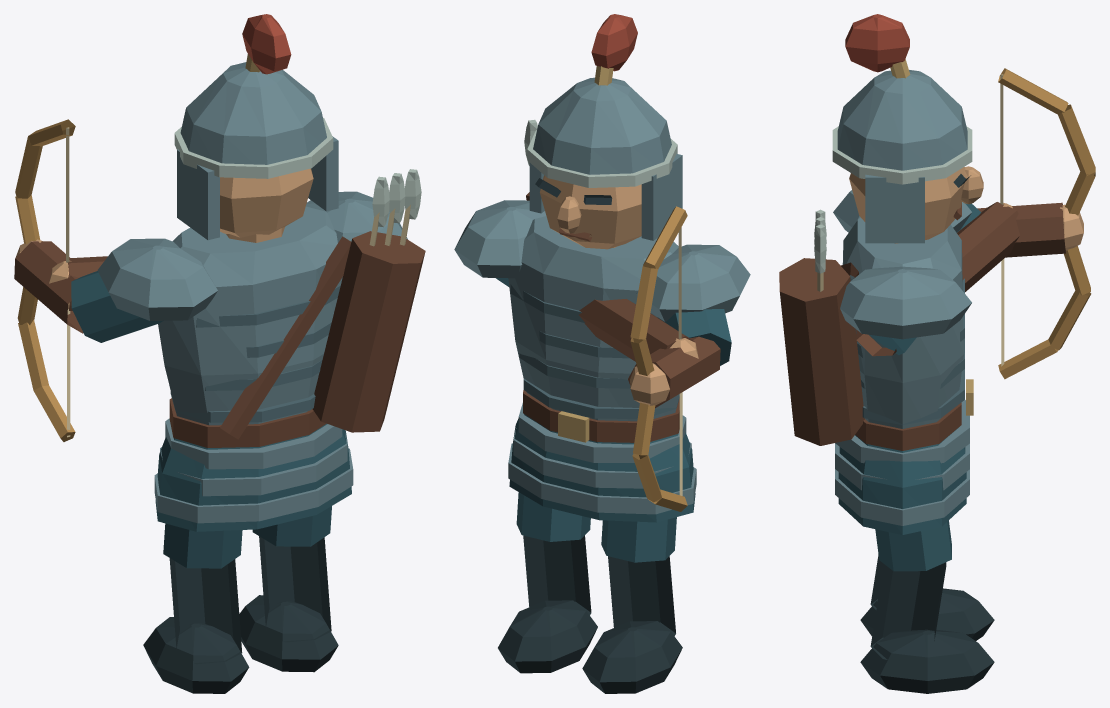
File: song-archer-release.obj
3 views of the same model, side by side, from view 1: azimuth 30°, elevation 25°; view 2: azimuth 150°, elevation 25°; view 3: azimuth 270°, elevation 25° (orthographic). The views are drawn at different scales.
Size of the model in its own units: 1.36 by 2.9 by 1.27.
